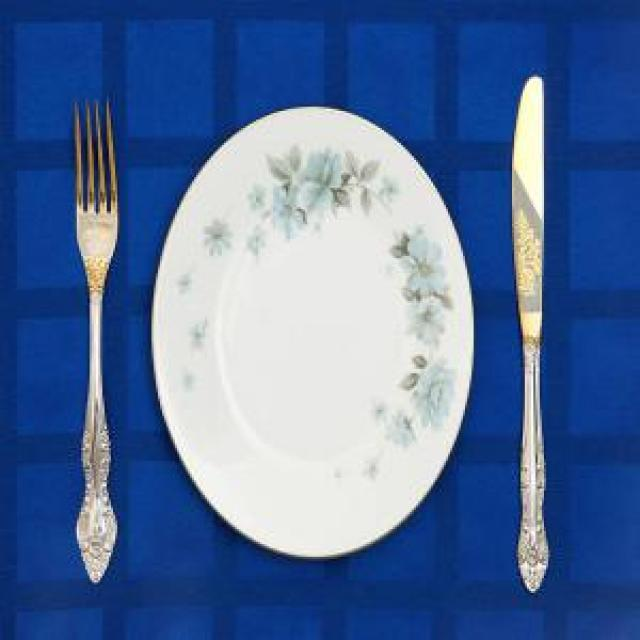knife: (514, 75, 549, 593)
